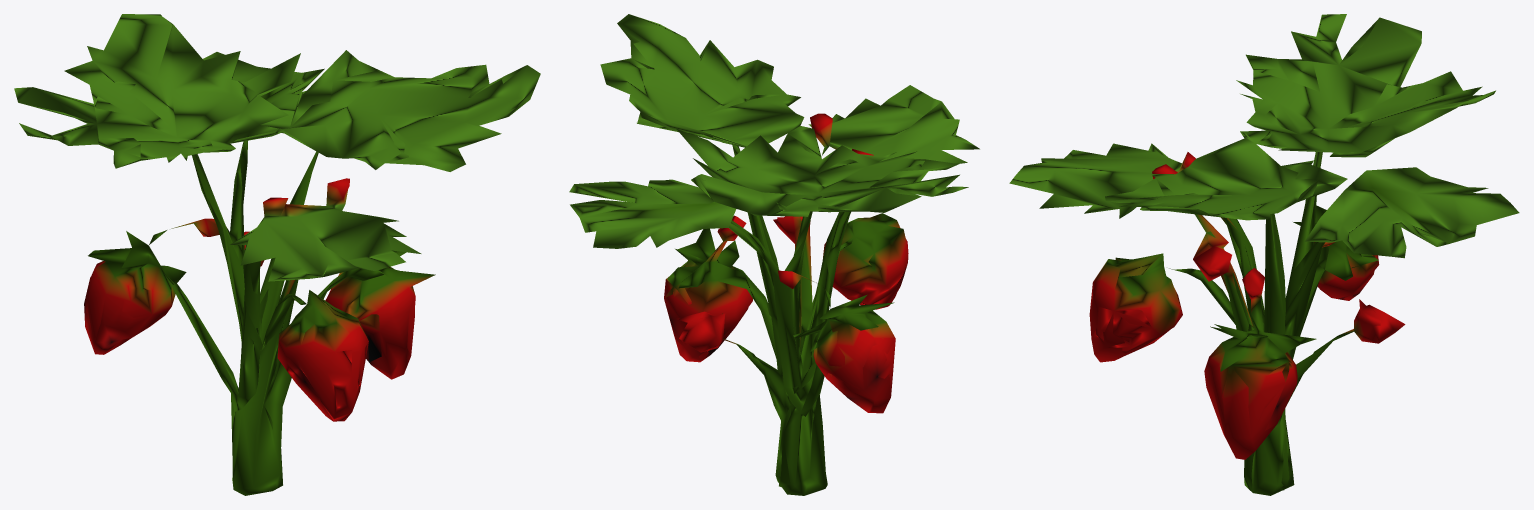
File: gen3d-wild-strawberry-plant-lod1.glb
3 renders of one model, left to right at view 1: azimuth 30°, elevation 25°; view 2: azimuth 150°, elevation 25°; view 3: azimuth 270°, elevation 25°, orthographic. The views are drawn at different scales.
Parts seen in each view (by area): view 1: part_0; view 2: part_0; view 3: part_0.
Boxes of the visible parts, bbox=[...] form: part_0: bbox=[14, 14, 540, 495]; part_0: bbox=[569, 14, 979, 495]; part_0: bbox=[1009, 14, 1519, 495].
Size of the model in its own units: 1.15 by 0.9954 by 1.19.
